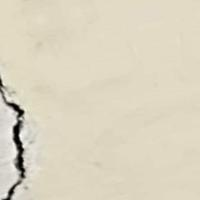crack: (0, 70, 47, 199)
